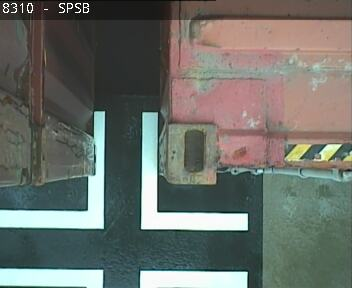groundmarker_1: (1, 111, 250, 230)
